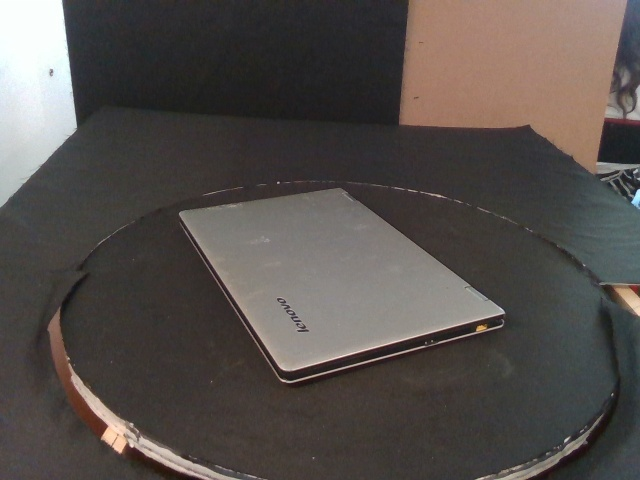laptop: (177, 187, 506, 384)
